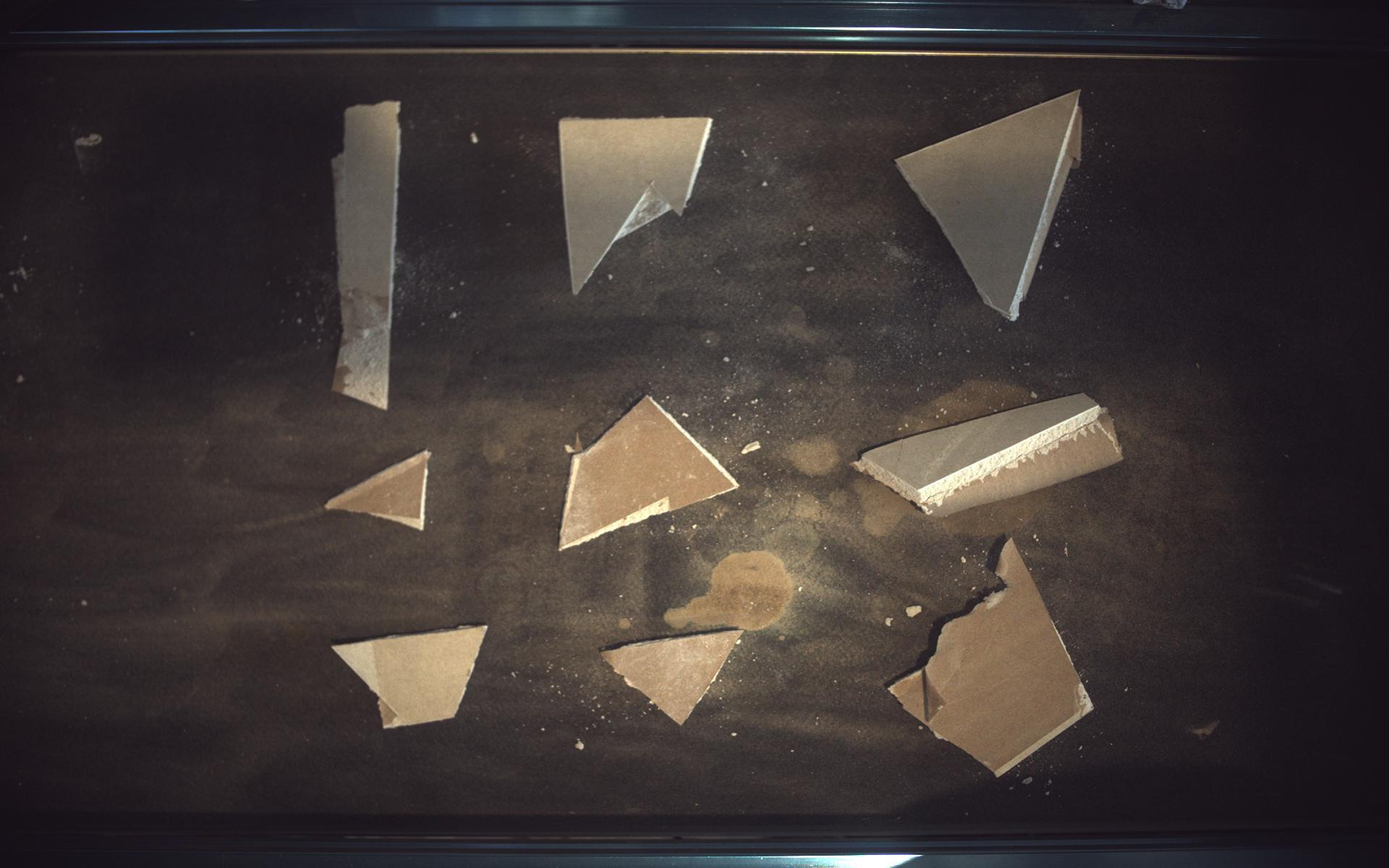gypsum_board: (891, 539, 1095, 778), (898, 89, 1085, 320), (855, 393, 1125, 517), (560, 396, 740, 551), (561, 116, 713, 293), (331, 100, 400, 409), (332, 626, 487, 730), (602, 630, 742, 726), (324, 451, 431, 530)
